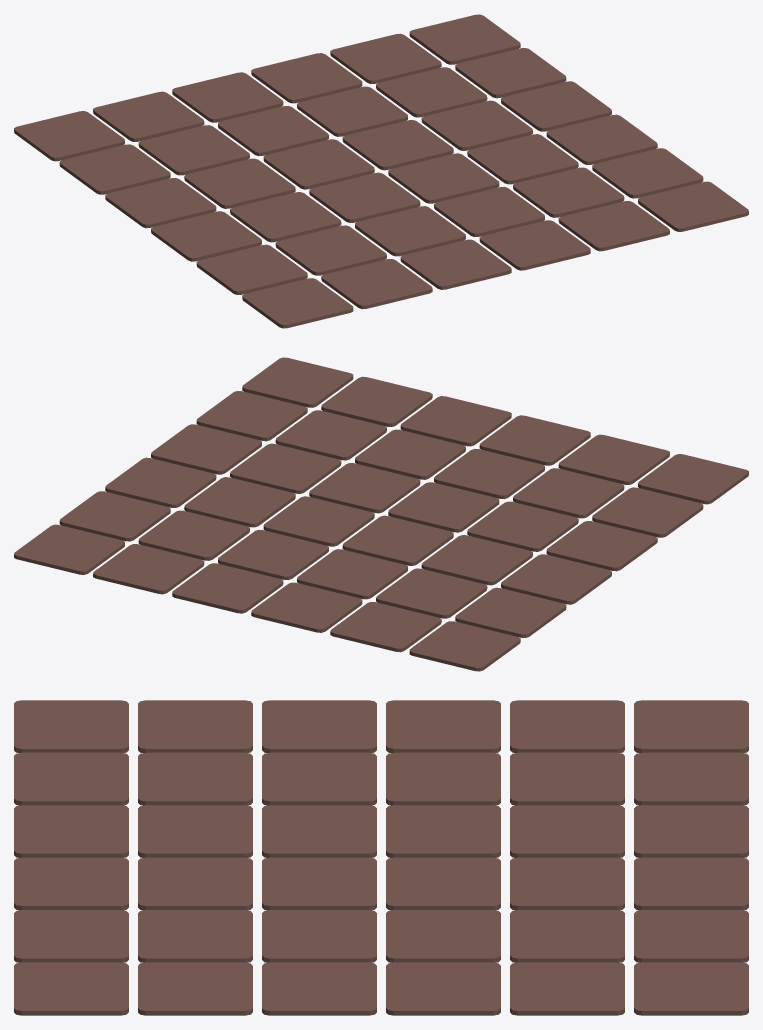
Rendered from Tiles.fbx.
The picture shows the model from 3 angles, top to bottom: view 1: azimuth 30°, elevation 25°; view 2: azimuth 150°, elevation 25°; view 3: azimuth 270°, elevation 25°; orthographic projection. The views are drawn at different scales.
Parts seen in each view (by area): view 1: Plane.004; view 2: Plane.004; view 3: Plane.004.
Boxes of the visible parts, x1,y1,x2,y2 form: Plane.004: (14, 14, 748, 328); Plane.004: (14, 357, 748, 671); Plane.004: (14, 700, 748, 1015).
Bounding box in the file's own units: 155 × 1.09 × 155.
